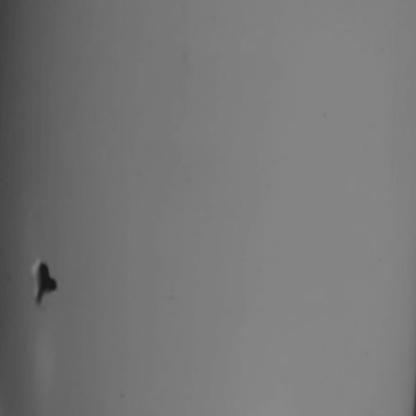kongdong: (22, 257, 64, 307)
